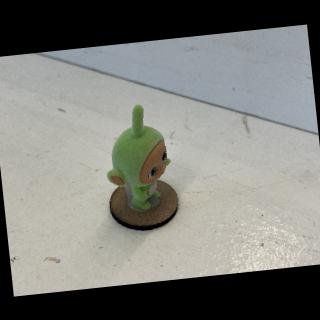teletubby: (107, 104, 170, 210)
